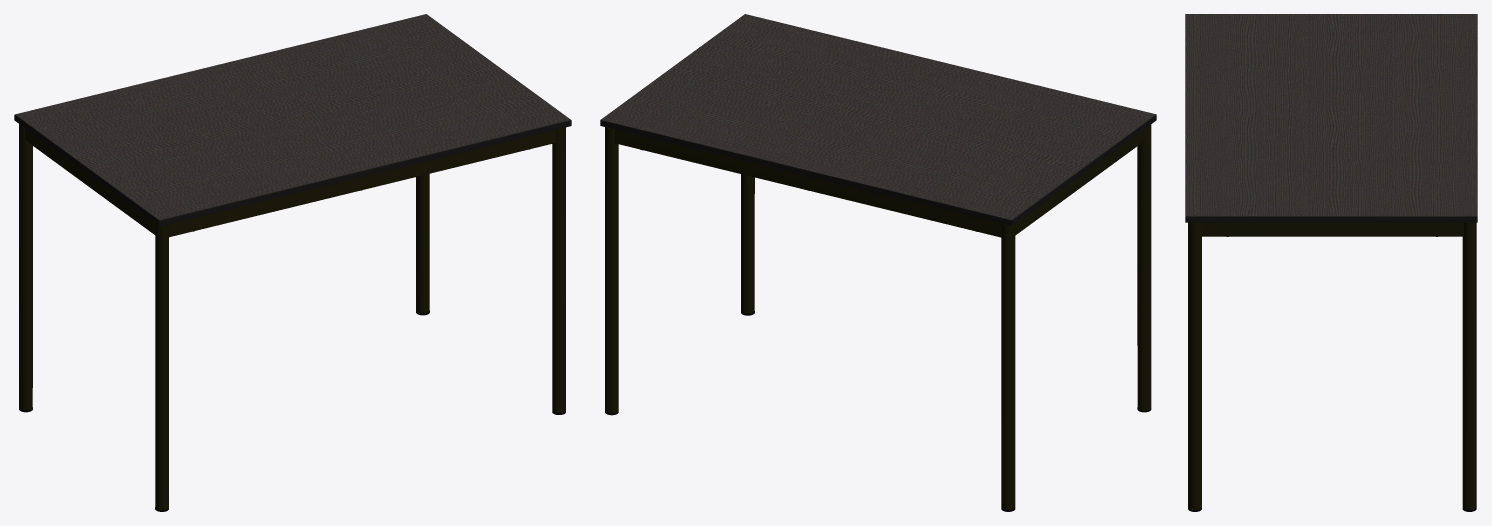
3 renders of one model, left to right at view 1: azimuth 30°, elevation 25°; view 2: azimuth 150°, elevation 25°; view 3: azimuth 270°, elevation 25°, orthographic.
Parts seen in each view (by area): view 1: Mesh_0; view 2: Mesh_0; view 3: Mesh_0.
Boxes of the visible parts, x1,y1,x2,y2 form: Mesh_0: (14,14,571,511); Mesh_0: (600,14,1156,511); Mesh_0: (1185,14,1477,511).
Size of the model in its own units: 1.1 by 0.7503 by 0.671.
Materials: 1 (1 with a texture image).
